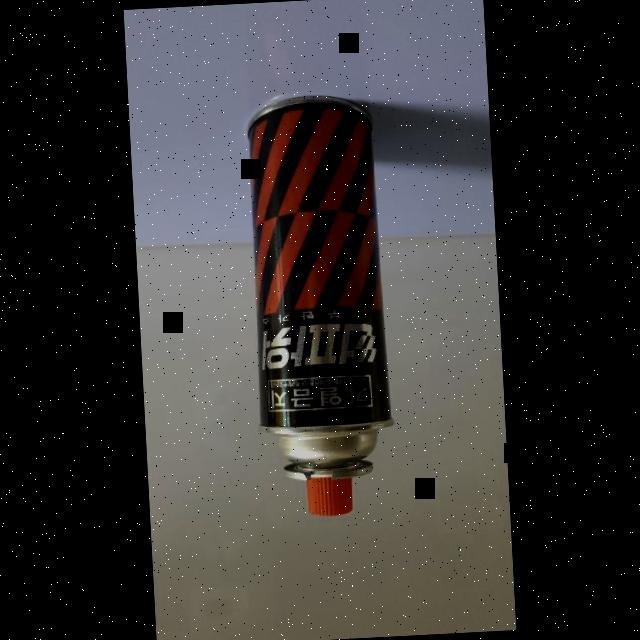chemical_spray_can: (210, 67, 420, 535)
